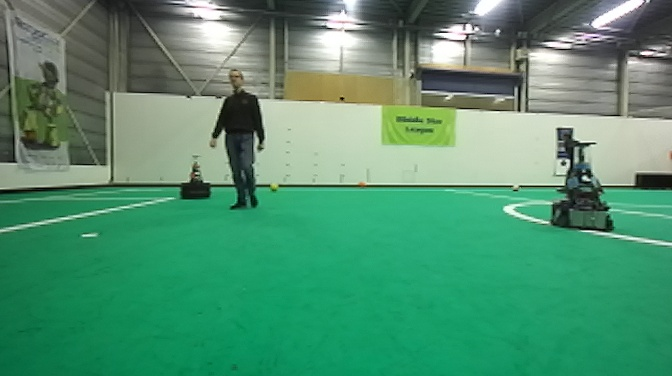ball: (267, 178, 281, 194), (354, 179, 369, 192), (510, 182, 522, 194)
human: (204, 63, 269, 211)
robot: (549, 139, 616, 232), (177, 153, 215, 201)
